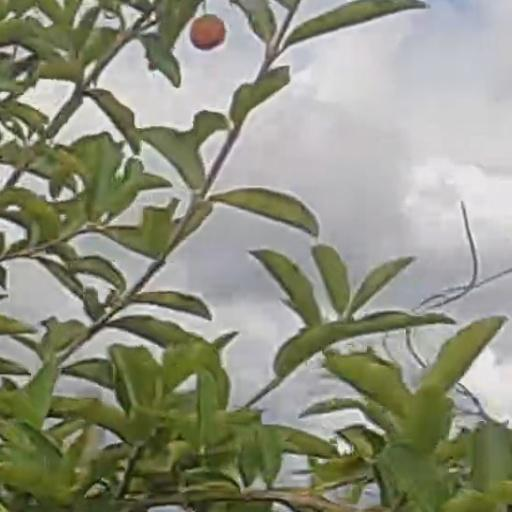acerola_vermelha: (192, 15, 224, 52)
